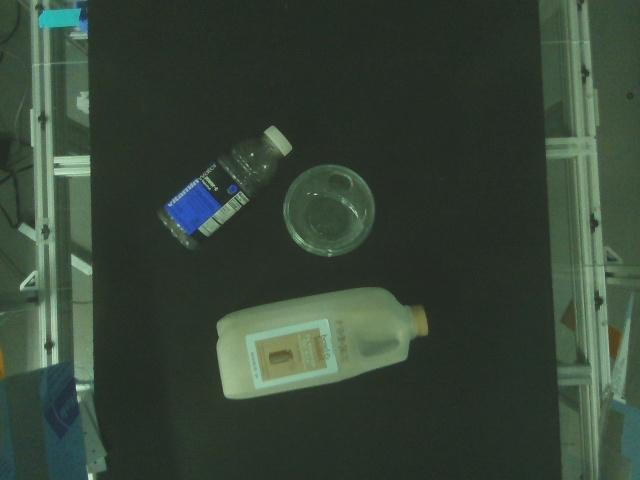plastic: (216, 286, 430, 401), (156, 124, 293, 252), (284, 165, 377, 259)
